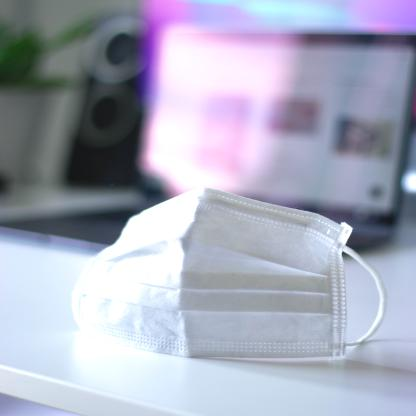dress: (67, 186, 388, 369)
